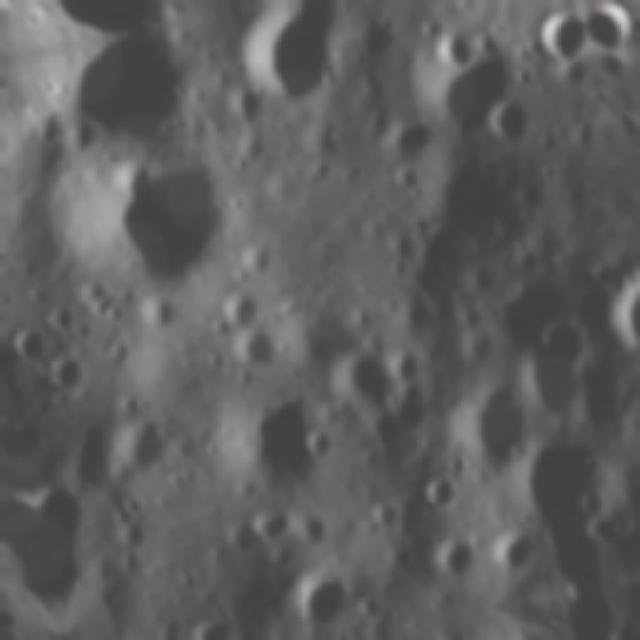crater: (73, 153, 222, 302), (50, 33, 198, 158), (222, 0, 358, 117), (417, 20, 518, 145), (286, 564, 352, 638), (598, 260, 640, 374), (96, 416, 162, 479), (534, 10, 586, 78), (379, 114, 435, 164), (426, 536, 474, 589), (222, 288, 267, 343), (36, 353, 90, 398), (416, 474, 461, 518), (488, 530, 528, 578), (240, 333, 286, 373), (248, 506, 290, 548), (295, 428, 334, 468), (366, 500, 403, 537), (10, 332, 48, 368), (388, 358, 427, 392), (602, 516, 635, 550), (300, 517, 335, 548), (196, 621, 237, 640), (0, 116, 9, 182), (162, 635, 202, 640), (84, 638, 134, 640)
